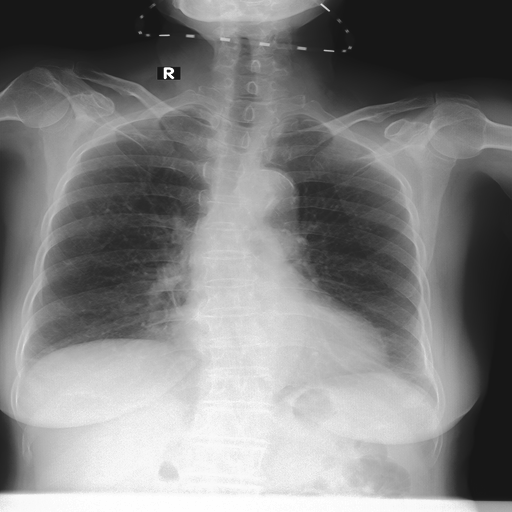Calcification: (280, 114, 314, 125), (172, 104, 208, 110)
Consolidation: (240, 168, 298, 217)
Lung Opacity: (258, 169, 291, 188)
Nodule/Mass: (167, 305, 388, 373)
Pneumothorax: (146, 271, 184, 327), (60, 259, 78, 265)
